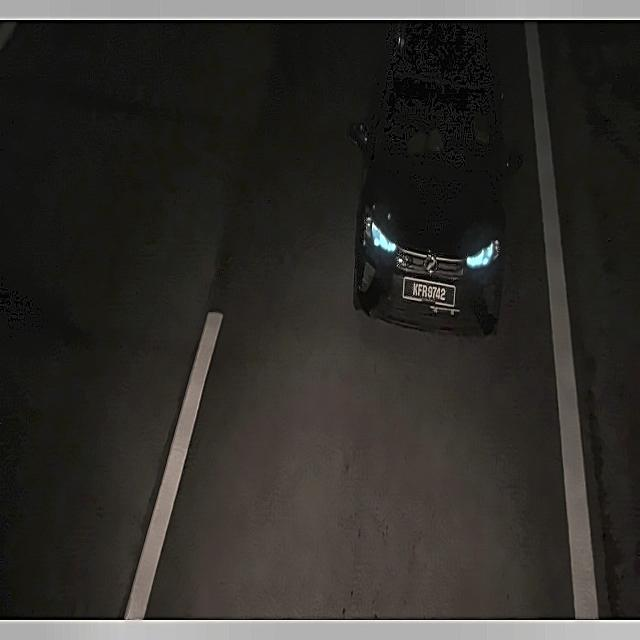car: (399, 270, 463, 313)
